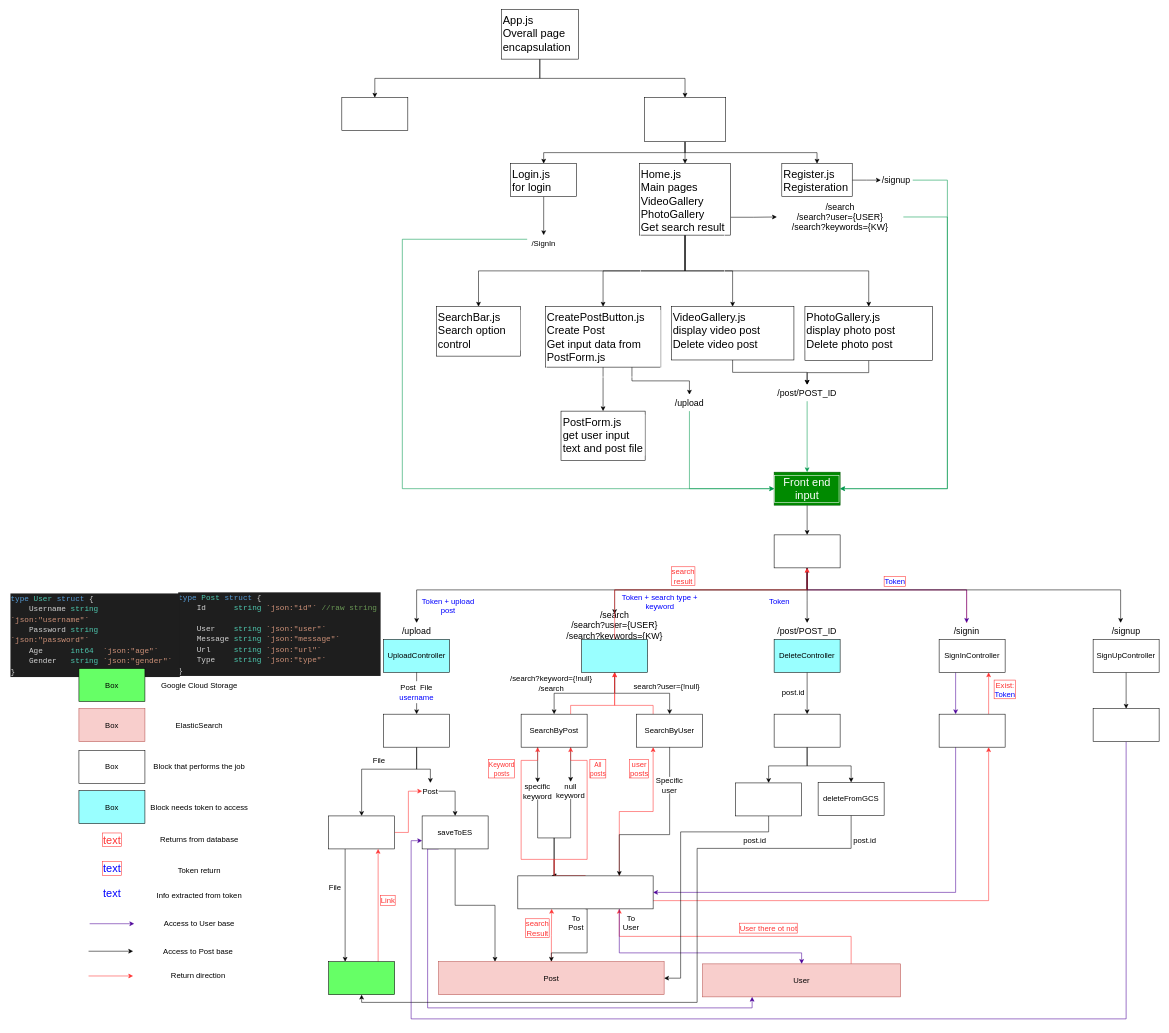
Some shapes in this 1169 by 1033 pixel diagram are drawn without their labels. The shapes that lost their labels are listed below. From the top down, each one's centre as x and y in pixels, then its label:
At point (374, 114): "Topbar.js Logout".
At point (685, 119): "Main.js router for key components".
At point (807, 551): "main router".
At point (614, 655): "SearchController".
At point (416, 730): "savePost".
At point (807, 730): "deletePost".
At point (972, 730): "checkUser".
At point (1126, 725): "addUser".
At point (768, 799): "deleteFormES".
At point (361, 832): "saveToGCS".
At point (585, 892): "readFormES".
At point (361, 978): "GCS".
